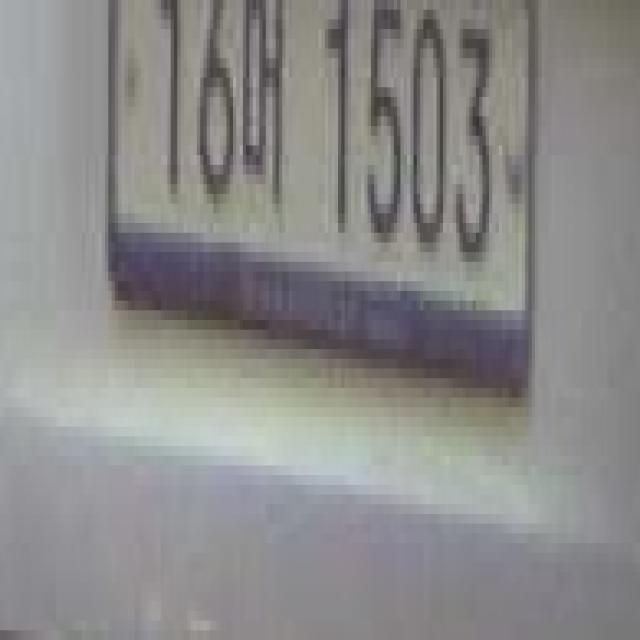plat: (106, 0, 536, 380)
